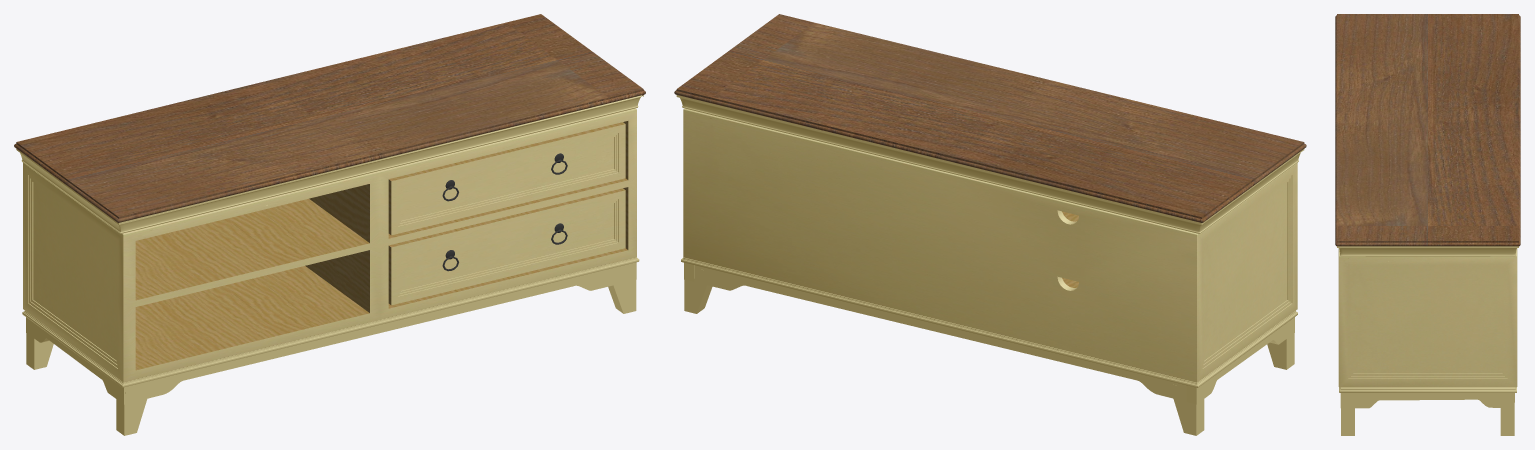
3 renders of one model, left to right at view 1: azimuth 30°, elevation 25°; view 2: azimuth 150°, elevation 25°; view 3: azimuth 270°, elevation 25°, orthographic. The views are drawn at different scales.
Visible parts, largest first — view 1: Merged Objects, ID16, ID36, ручки; view 2: Merged Objects, ID16; view 3: ID16, Merged Objects.
Boxes of the visible parts, bbox=[...] form: Merged Objects: bbox=[16, 95, 643, 435]; ID16: bbox=[14, 14, 645, 222]; ID36: bbox=[135, 121, 628, 370]; ручки: bbox=[442, 153, 567, 271]; Merged Objects: bbox=[676, 95, 1304, 435]; ID16: bbox=[674, 14, 1306, 222]; ID16: bbox=[1335, 14, 1520, 246]; Merged Objects: bbox=[1337, 246, 1518, 435].
Bounding box in the file's own units: 0.4465 × 0.1793 × 0.1526.
4 materials, 3 textured.
